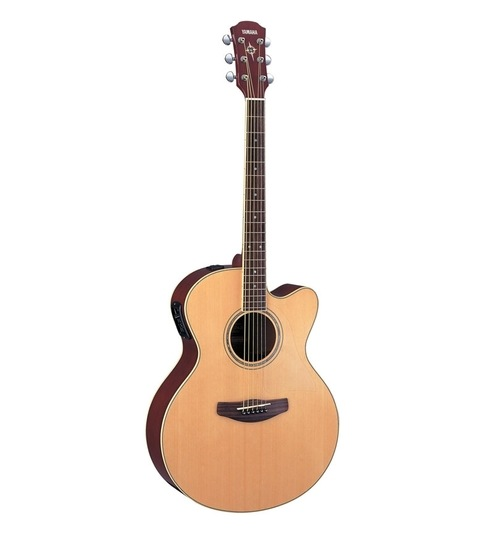ElectricGuitar: (152, 40, 332, 506)
